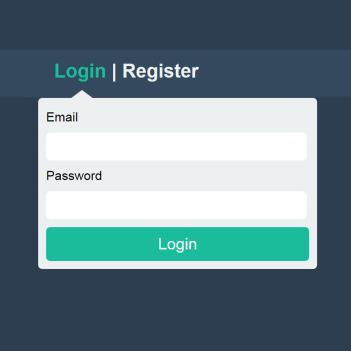button: (44, 226, 311, 263)
field: (44, 188, 310, 222), (44, 130, 308, 162)
